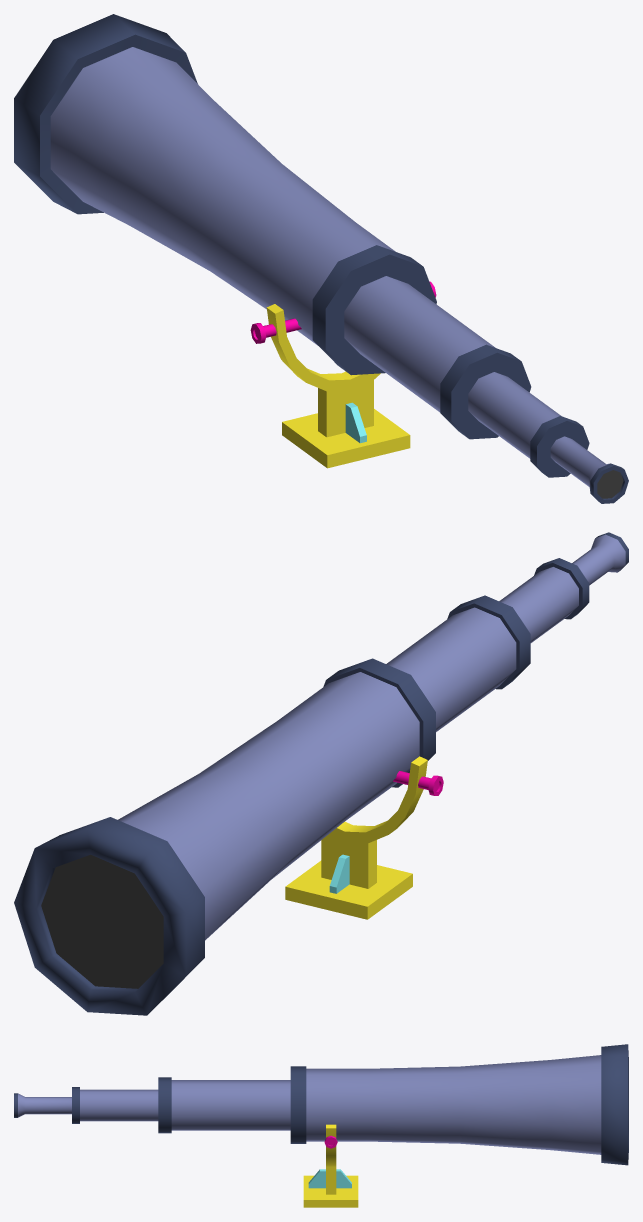
The model's file is Telescope.fbx.
The picture shows the model from 3 angles, top to bottom: view 1: azimuth 30°, elevation 25°; view 2: azimuth 150°, elevation 25°; view 3: azimuth 270°, elevation 25°; orthographic projection. The views are drawn at different scales.
Visible parts, largest first — view 1: Cylinder001, Circle001; view 2: Cylinder001, Circle001; view 3: Cylinder001, Circle001, Line002.
Part boxes in pixels (bbox=[...]): Cylinder001: bbox=[14, 14, 628, 503]; Circle001: bbox=[266, 304, 410, 468]; Cylinder001: bbox=[14, 532, 628, 1015]; Circle001: bbox=[285, 756, 427, 919]; Cylinder001: bbox=[14, 1044, 628, 1165]; Circle001: bbox=[303, 1124, 358, 1207]; Line002: bbox=[308, 1169, 351, 1188].
Size of the model in its own units: 39.39 by 50.85 by 195.
